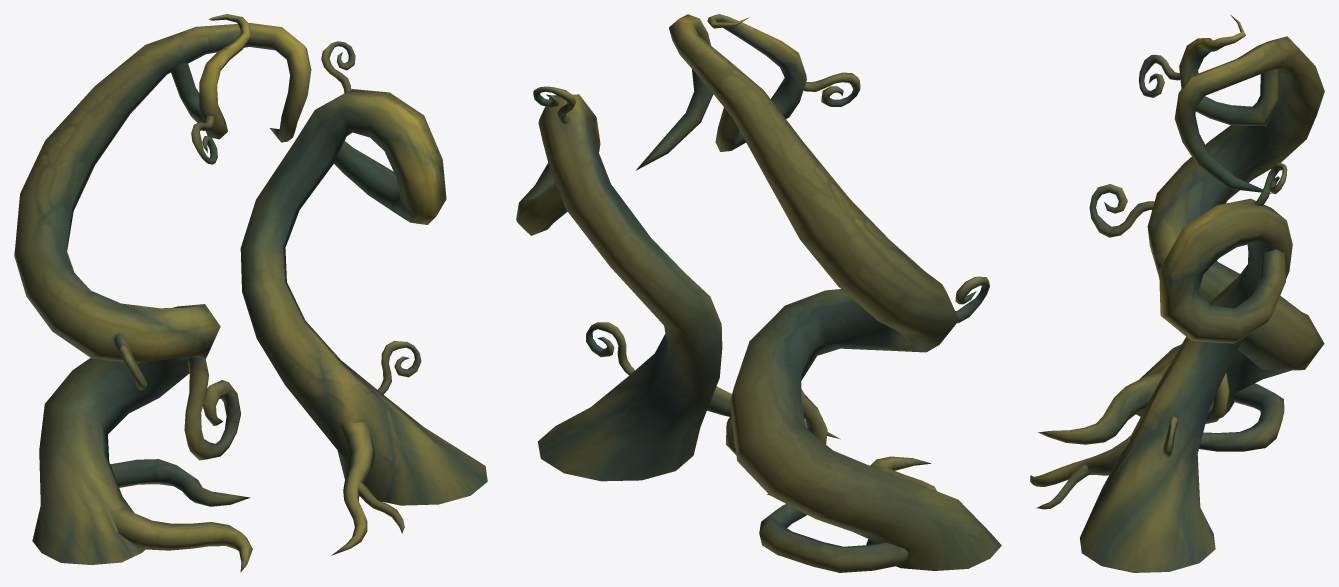
Rendered from DoorVine.FBX.
3 renders of one model, left to right at view 1: azimuth 30°, elevation 25°; view 2: azimuth 150°, elevation 25°; view 3: azimuth 270°, elevation 25°, orthographic. The views are drawn at different scales.
Visible parts, largest first — view 1: DoorVine; view 2: DoorVine; view 3: DoorVine.
Boxes of the visible parts, bbox=[...] form: DoorVine: bbox=[14, 14, 487, 572]; DoorVine: bbox=[516, 14, 1001, 572]; DoorVine: bbox=[1030, 14, 1324, 572].
Bounding box in the file's own units: 546 × 579 × 342.
